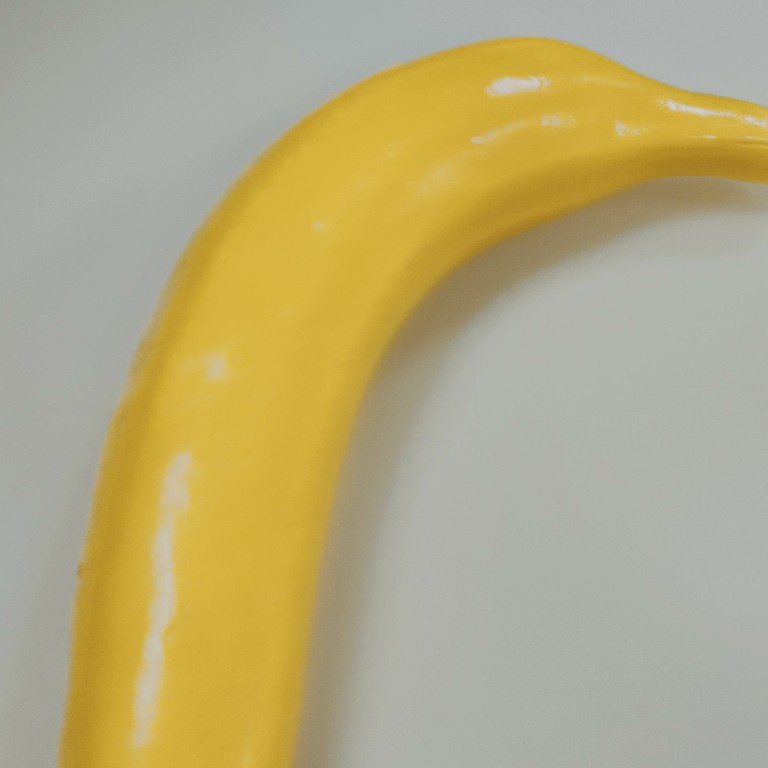fruit_banana: (51, 31, 768, 768)
